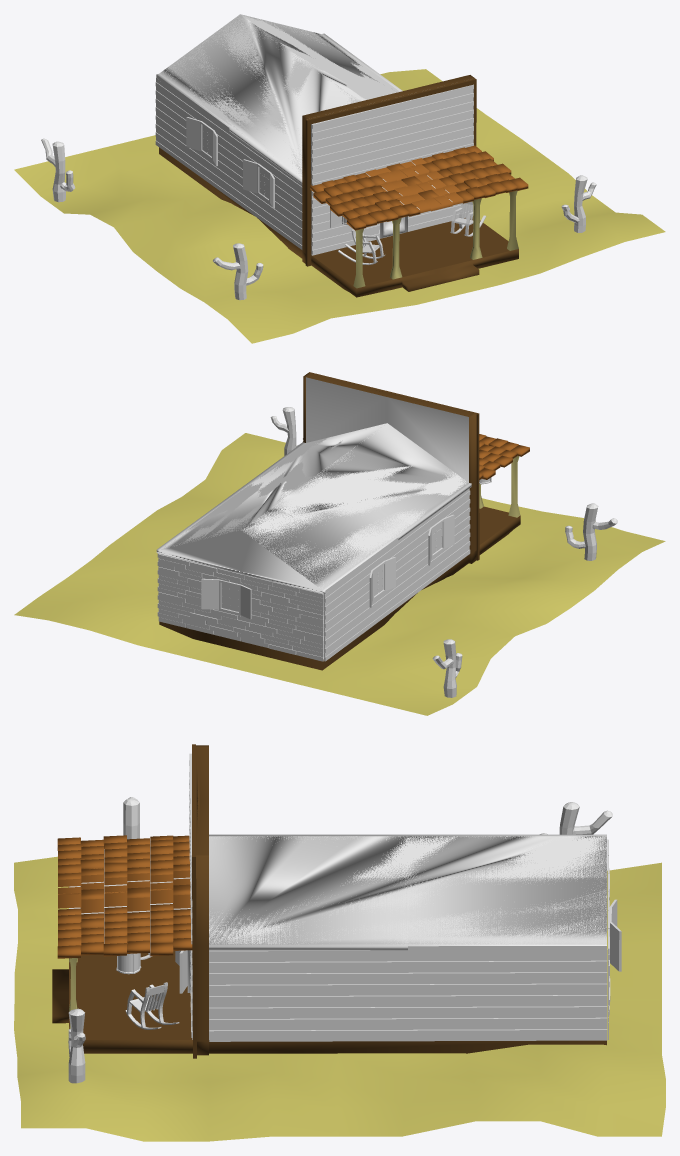
The model's file is western_bednarczyk.fbx.
3 renders of one model, top to bottom at view 1: azimuth 30°, elevation 25°; view 2: azimuth 150°, elevation 25°; view 3: azimuth 270°, elevation 25°, orthographic. The views are drawn at different scales.
Visible parts, largest first — view 1: Ground, roof, BACKWALL.003, roofTiles, porch, BACKWALL.001, BACKWALL.004, columns, Home.002, cactus.001, cactus, Home.001 (+5 smaller); view 2: Ground, roof, WALLS, BACKWALL.001, Home, Home.001, Home.002, roofTiles, WINDOW, porch, cactus, BACKWALL.004 (+5 smaller); view 3: Ground, roof, BACKWALL.002, roofTiles, porch, Home.001, Home.002, BACKWALL.004, Chair.001, cactus.002, cactus.001, BACKWALL.003 (+3 smaller).
Boxes of the visible parts, x1,y1,x2,y2 form: Ground: [14, 69, 665, 343]; roof: [156, 14, 402, 184]; BACKWALL.003: [311, 84, 473, 255]; roofTiles: [310, 145, 528, 230]; porch: [311, 216, 518, 297]; BACKWALL.001: [155, 78, 302, 249]; BACKWALL.004: [305, 78, 476, 266]; columns: [353, 190, 518, 288]; Home.002: [302, 75, 474, 253]; cactus.001: [41, 138, 75, 202]; cactus: [213, 243, 263, 300]; Home.001: [159, 147, 305, 263]; Ground: [14, 433, 665, 715]; roof: [156, 423, 471, 593]; WALLS: [158, 554, 323, 661]; BACKWALL.001: [324, 488, 470, 661]; Home: [306, 377, 468, 658]; Home.001: [159, 550, 476, 670]; Home.002: [303, 373, 476, 553]; roofTiles: [479, 434, 529, 479]; WINDOW: [201, 578, 251, 619]; porch: [479, 506, 520, 554]; cactus: [565, 503, 617, 560]; BACKWALL.004: [308, 372, 479, 560]; Ground: [14, 856, 665, 1141]; roof: [209, 834, 606, 950]; BACKWALL.002: [209, 949, 607, 1041]; roofTiles: [57, 835, 192, 958]; porch: [52, 951, 192, 1053]; Home.001: [197, 1040, 606, 1055]; Home.002: [196, 745, 208, 1041]; BACKWALL.004: [192, 744, 196, 1058]; Chair.001: [125, 982, 179, 1029]; cactus.002: [68, 1008, 85, 1083]; cactus.001: [539, 802, 612, 834]; BACKWALL.003: [189, 753, 192, 1039].
Bounding box in the file's own units: 1520 × 537 × 1513.
